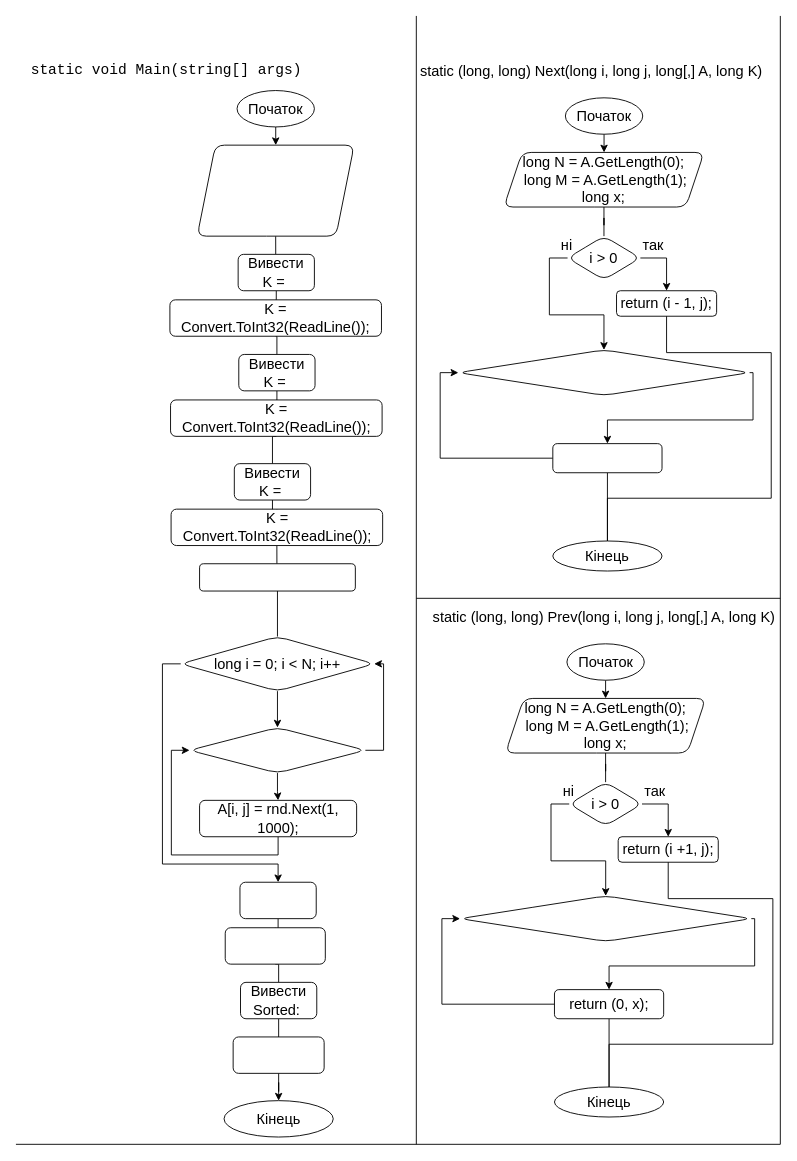
Image size: 797x1161. Some labels were removed from this diagram. The centre of each missing label's shape, as x and y in pixels:
"A = new long[N, M];" belongs at [277,577].
"long j = 0; j < M; j++" belongs at [277,750].
"long[,] A; int N, M; long K, t; Random rnd = new Random();" belongs at [275,190].
"Print(A, K); ReadLine();" belongs at [278,1054].
"Print(A, K); Sort(A, K);" belongs at [274,945].
"return (N - 1, x);" belongs at [607,458].
"x = j + 1; (x<M) && !Check(x, K); x++" belongs at [603,372].
"x = j - 1; (x>=0) && !Check(x, K); x--" belongs at [605,918].
"Вивести Created:" belongs at [277,900].
